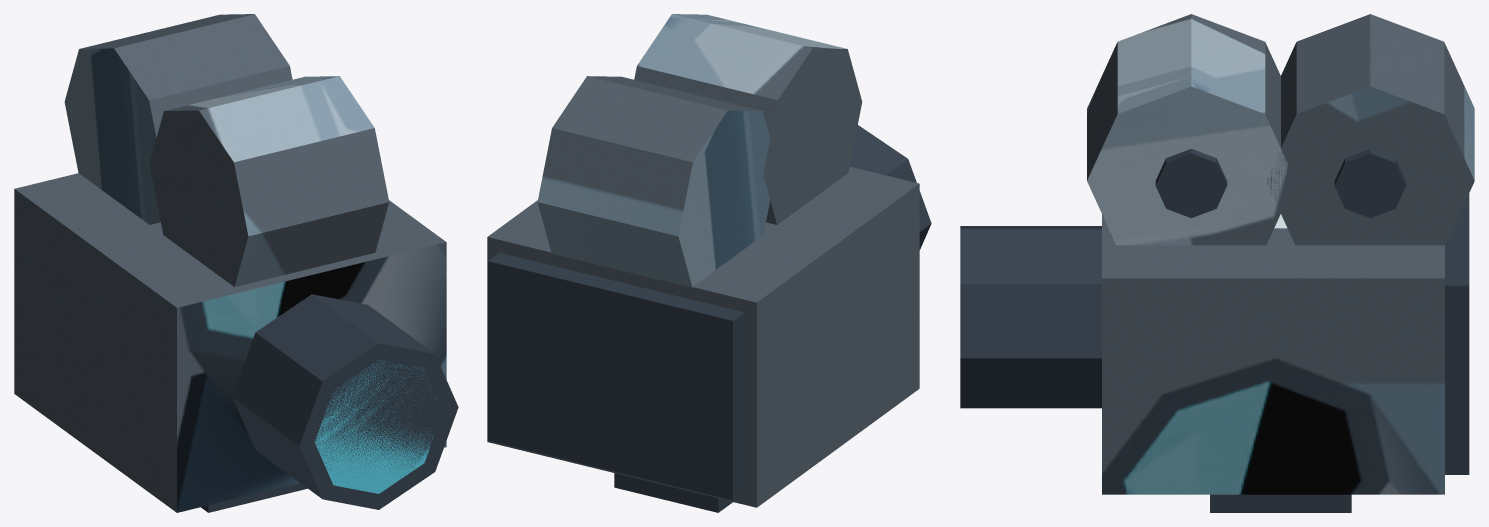
The model's file is camera.gltf.
3 views of the same model, side by side, from view 1: azimuth 30°, elevation 25°; view 2: azimuth 150°, elevation 25°; view 3: azimuth 270°, elevation 25° (orthographic). The views are drawn at different scales.
Visible parts, largest first — view 1: Camera_Position_Marker; view 2: Camera_Position_Marker; view 3: Camera_Position_Marker.
Boxes of the visible parts, left/top/right/bottom form: Camera_Position_Marker: left=14, top=14, right=458, bottom=512; Camera_Position_Marker: left=487, top=14, right=931, bottom=512; Camera_Position_Marker: left=960, top=14, right=1474, bottom=512.
Bounding box in the file's own units: 0.44 × 0.645 × 0.69.
4 materials, 1 textured.
